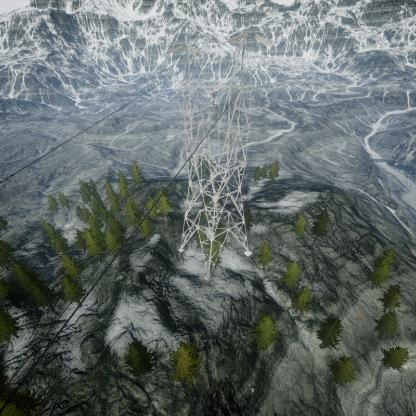tower: (173, 32, 254, 284)
